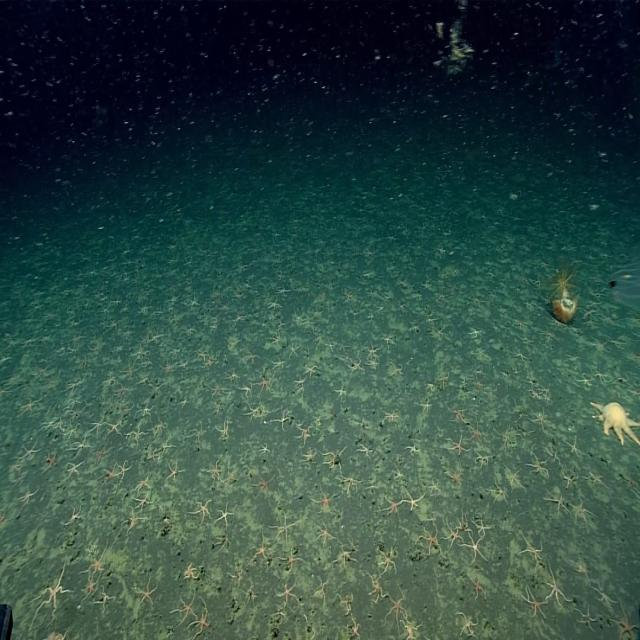brittle-stars: (35, 561, 69, 613), (612, 604, 639, 640), (383, 592, 408, 630), (547, 568, 568, 606), (522, 585, 546, 618), (272, 514, 296, 546), (86, 547, 110, 578), (135, 578, 158, 609), (192, 601, 212, 636), (174, 592, 197, 622), (522, 533, 544, 564), (419, 524, 441, 555), (250, 531, 270, 563), (577, 604, 599, 632), (313, 488, 335, 515), (594, 582, 615, 610), (457, 612, 478, 639), (464, 534, 484, 562), (20, 439, 42, 464), (368, 572, 386, 602), (276, 580, 298, 604), (546, 490, 568, 514), (570, 498, 591, 523), (324, 449, 346, 472), (18, 484, 40, 507), (192, 498, 213, 522), (504, 465, 524, 490), (336, 544, 356, 569), (378, 549, 397, 575), (402, 489, 424, 511), (122, 511, 144, 533), (281, 548, 301, 572), (97, 587, 115, 613), (83, 572, 101, 598), (447, 435, 468, 457), (70, 435, 91, 457), (488, 482, 508, 505), (255, 475, 275, 497), (528, 454, 548, 476), (565, 436, 584, 459), (445, 521, 463, 545), (316, 521, 334, 545), (340, 474, 361, 494), (402, 619, 422, 640), (468, 576, 485, 600), (216, 504, 233, 528), (64, 460, 84, 480), (166, 460, 184, 482), (188, 421, 206, 443), (65, 504, 83, 526), (21, 396, 40, 416), (43, 627, 72, 640), (447, 464, 464, 486), (221, 469, 238, 491), (383, 495, 402, 514), (471, 420, 486, 444), (531, 410, 549, 430), (128, 424, 146, 444), (134, 493, 154, 511), (622, 473, 640, 492), (474, 517, 491, 537), (153, 417, 169, 438), (347, 618, 362, 640), (134, 477, 152, 495), (210, 380, 227, 399), (586, 472, 606, 488), (208, 460, 224, 480), (560, 470, 576, 490), (115, 460, 130, 481), (357, 442, 374, 460), (256, 376, 272, 395), (298, 422, 312, 443), (94, 446, 111, 463), (382, 410, 400, 426), (302, 447, 318, 465), (594, 367, 610, 385), (364, 341, 380, 359), (102, 464, 118, 482), (217, 418, 230, 440), (44, 451, 58, 471), (275, 410, 289, 430), (184, 561, 198, 581), (243, 348, 259, 365), (64, 422, 80, 439), (592, 338, 609, 354), (91, 416, 105, 435), (335, 379, 347, 401), (500, 426, 512, 448), (106, 420, 121, 437), (65, 378, 82, 393), (349, 356, 363, 374), (163, 358, 177, 376), (243, 404, 257, 422), (272, 354, 287, 370), (418, 398, 433, 414), (451, 408, 466, 424), (477, 452, 492, 468), (474, 346, 490, 361), (407, 441, 421, 458), (148, 330, 162, 346), (578, 372, 592, 388), (203, 354, 217, 370), (514, 347, 528, 363), (388, 360, 402, 376), (161, 440, 175, 456), (392, 367, 406, 383), (124, 362, 138, 378), (240, 382, 253, 399), (140, 401, 153, 418), (365, 356, 379, 371), (234, 311, 248, 326), (312, 306, 325, 322), (115, 382, 128, 398), (428, 479, 440, 496), (292, 309, 304, 326), (276, 283, 290, 297), (305, 363, 320, 376), (260, 442, 273, 457), (186, 294, 199, 309), (472, 376, 484, 392), (268, 298, 281, 312), (467, 326, 482, 338), (288, 342, 299, 358), (147, 450, 158, 463), (539, 384, 550, 397), (340, 340, 350, 354), (367, 286, 378, 298)
